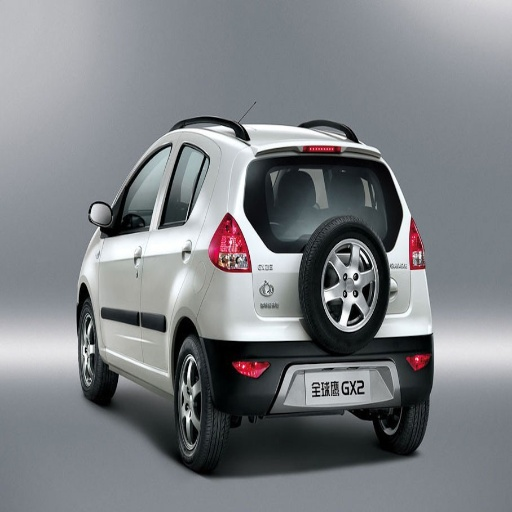back_bumper: (198, 269, 298, 411)
back_glass: (265, 156, 341, 200)
back_left_door: (143, 136, 211, 370)
trunk: (212, 218, 317, 317)
